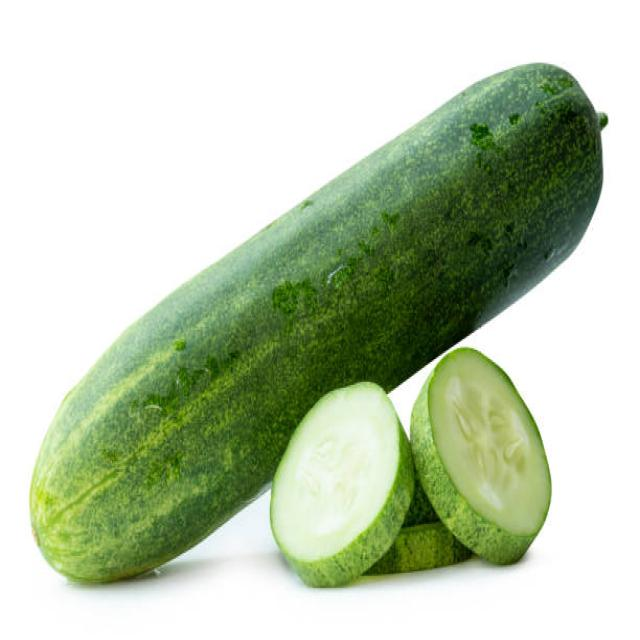cucumber: (25, 61, 604, 582)
